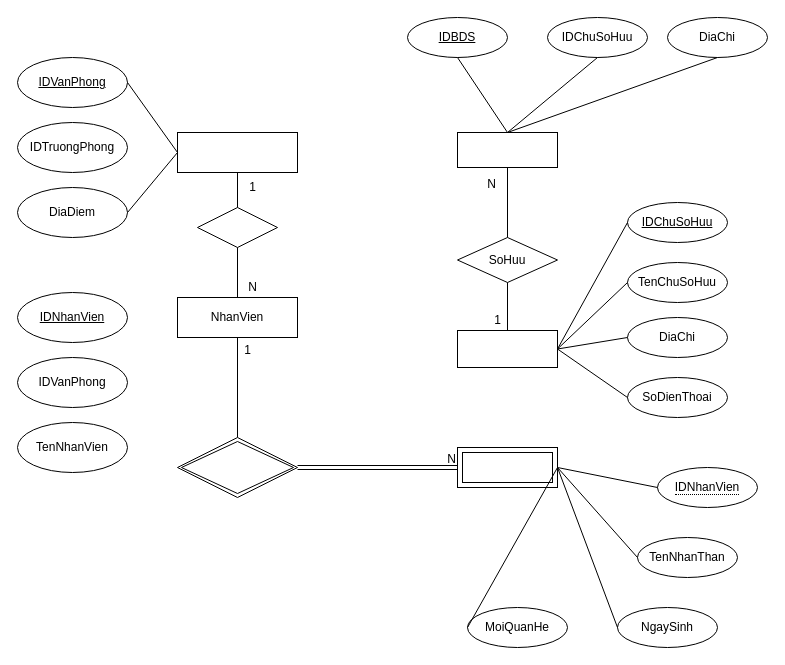
This 785x665 diagram has some shape labels left out. Each missing label, with the box of its shape:
BDS: (456, 132, 558, 168)
ChuSoHuu: (456, 330, 558, 368)
Co: (176, 436, 298, 498)
NhanThan: (456, 446, 558, 488)
Thuoc: (196, 206, 278, 248)
VanPhong: (176, 132, 298, 172)
